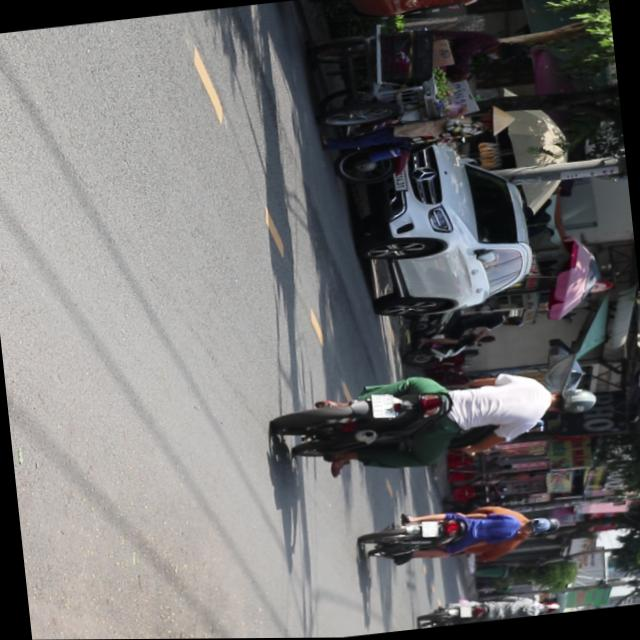helmet: (546, 384, 600, 416)
licenseplate: (269, 354, 605, 483), (358, 494, 560, 571)
motorcyclist: (521, 514, 555, 534)
nohelmet: (372, 392, 396, 418), (420, 519, 440, 537)
